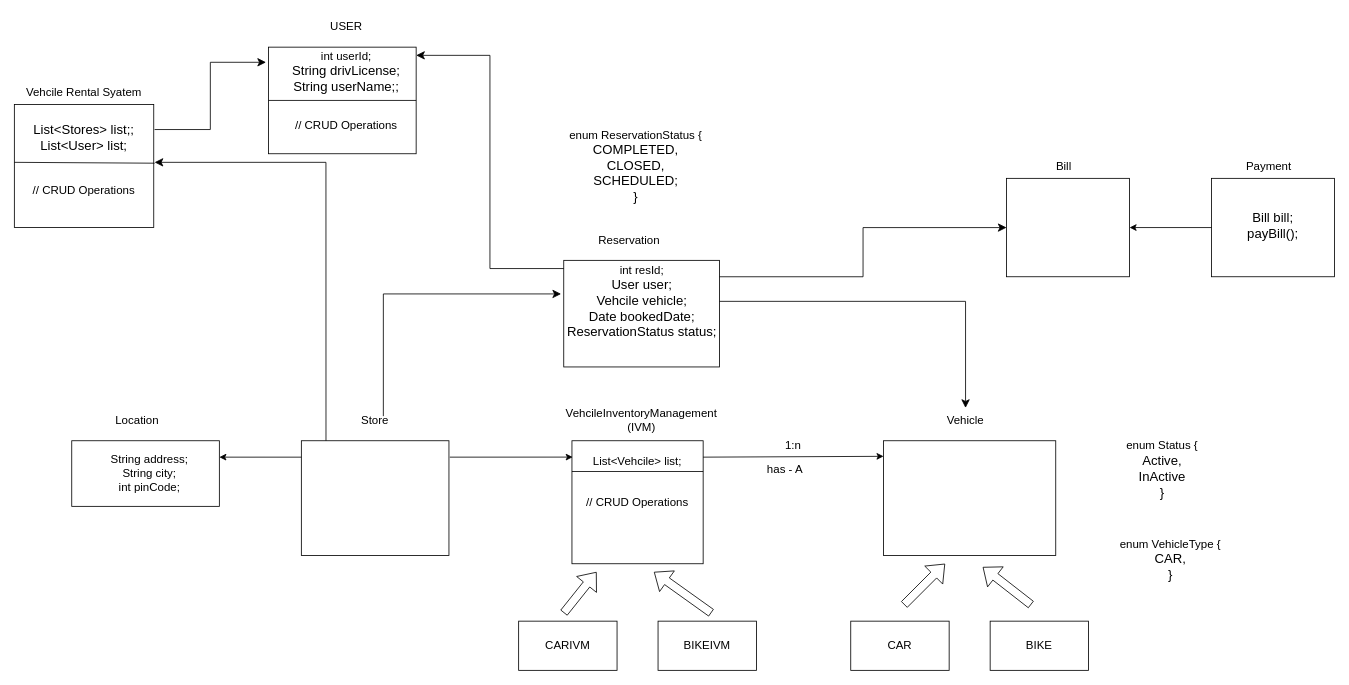
Some shapes in this 1349 by 685 pixel diagram are drawn without their labels. Here are the shapes that lost their labels. From the top down, the box of each, then its label:
(1006, 178, 1130, 277): Reservation res; boolean isPaid; double amount;
(301, 440, 449, 556): int storeId; VIM vim; Loaction loc; List<Reservation> list;
(883, 440, 1056, 556): int id; int vehicleNo; VehicleType type; Status status; int kmDriven;
